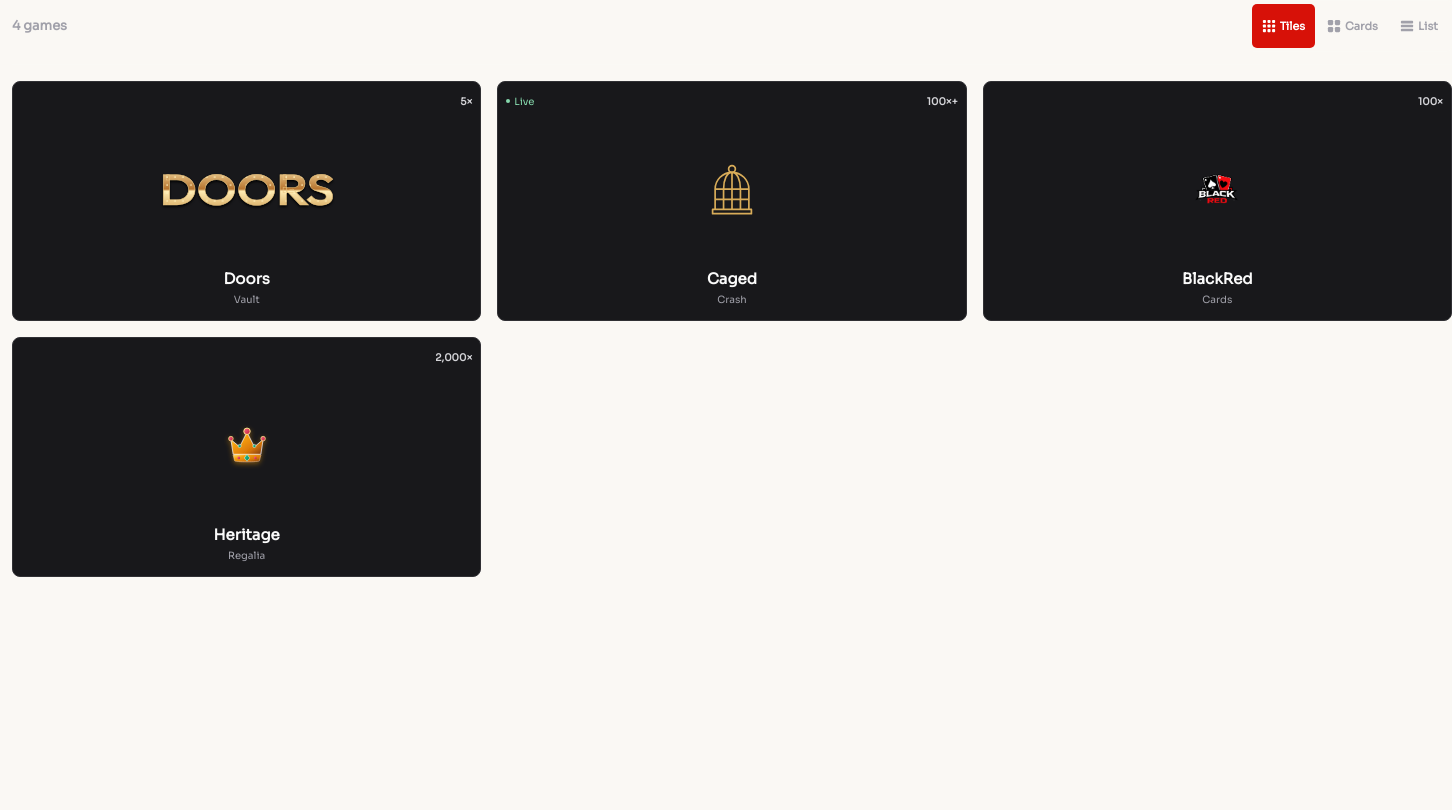
it: GamesCatalogue Component › switches to detailed cards view when cards toggle button is clicked
What coordinates should you click on to do the following:
click the button "Cards"
I would click on:
 (1352, 26)
Its box is [1317,4,1388,48].
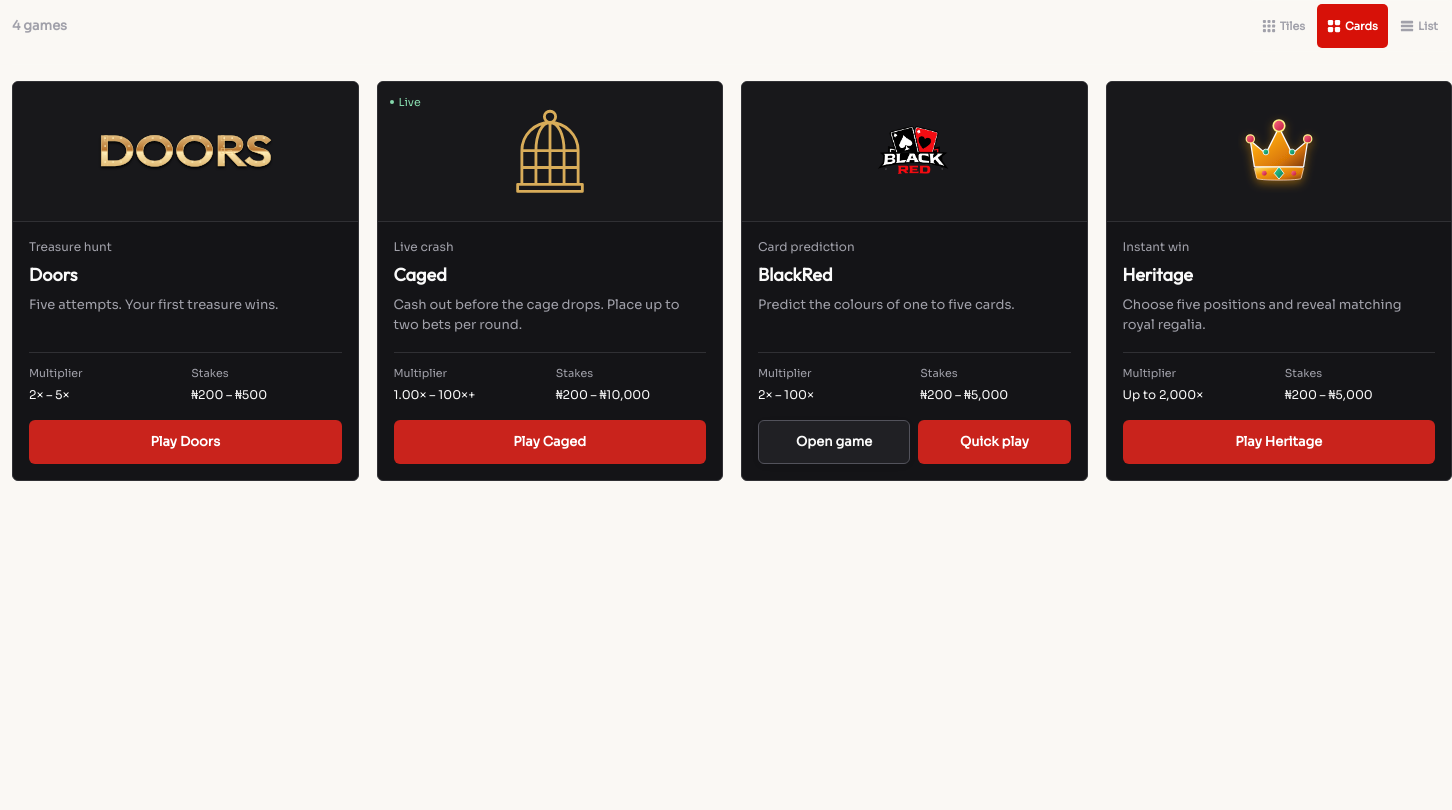
Result: the element named "Games Grid" is shown at [12,81,1451,481]
